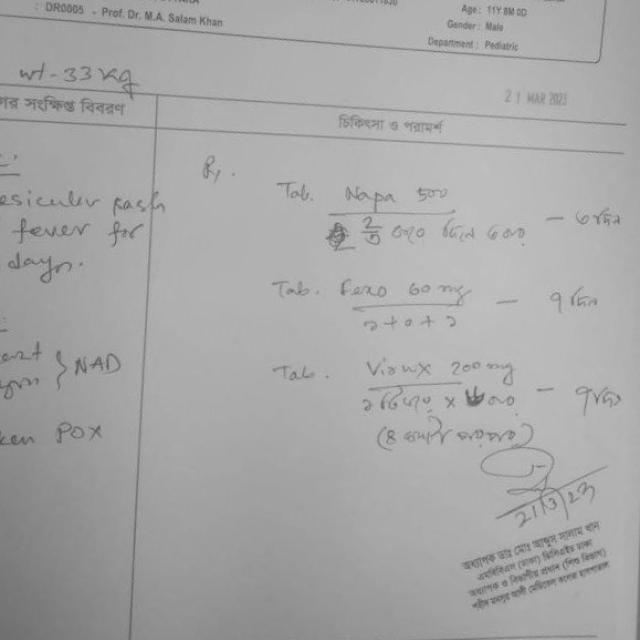medicine: (352, 346, 442, 392), (336, 174, 404, 217), (330, 270, 398, 308)
